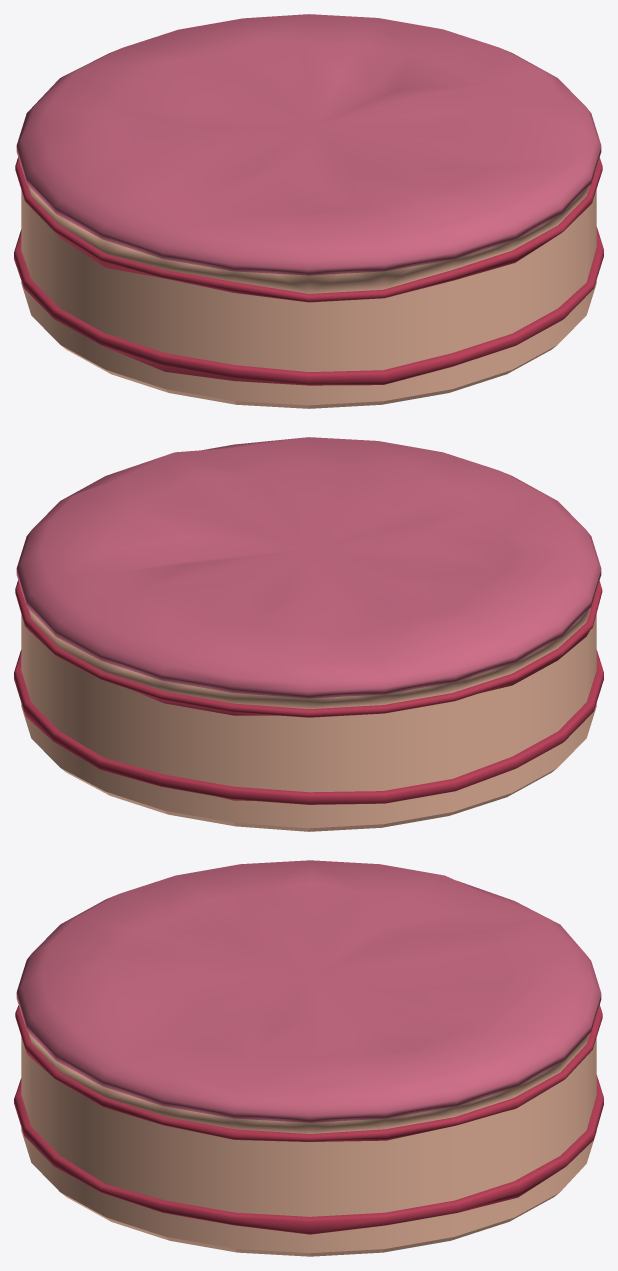
The model's file is WholeCake100%.obj.
The picture shows the model from 3 angles, top to bottom: view 1: azimuth 30°, elevation 25°; view 2: azimuth 150°, elevation 25°; view 3: azimuth 270°, elevation 25°; orthographic projection.
Parts seen in each view (by area): view 1: WholeCake100%; view 2: WholeCake100%; view 3: WholeCake100%.
Part boxes in pixels (bbox=[...]): WholeCake100%: bbox=[14, 14, 603, 408]; WholeCake100%: bbox=[14, 437, 603, 831]; WholeCake100%: bbox=[14, 860, 603, 1256].
Size of the model in its own units: 8.21 by 2.62 by 8.17.
